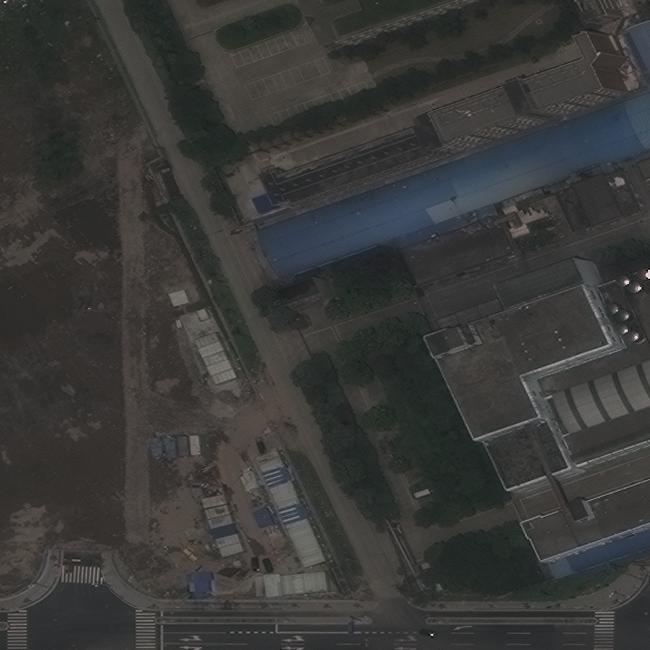parking lot: (245, 59, 328, 104), (229, 28, 309, 69)
